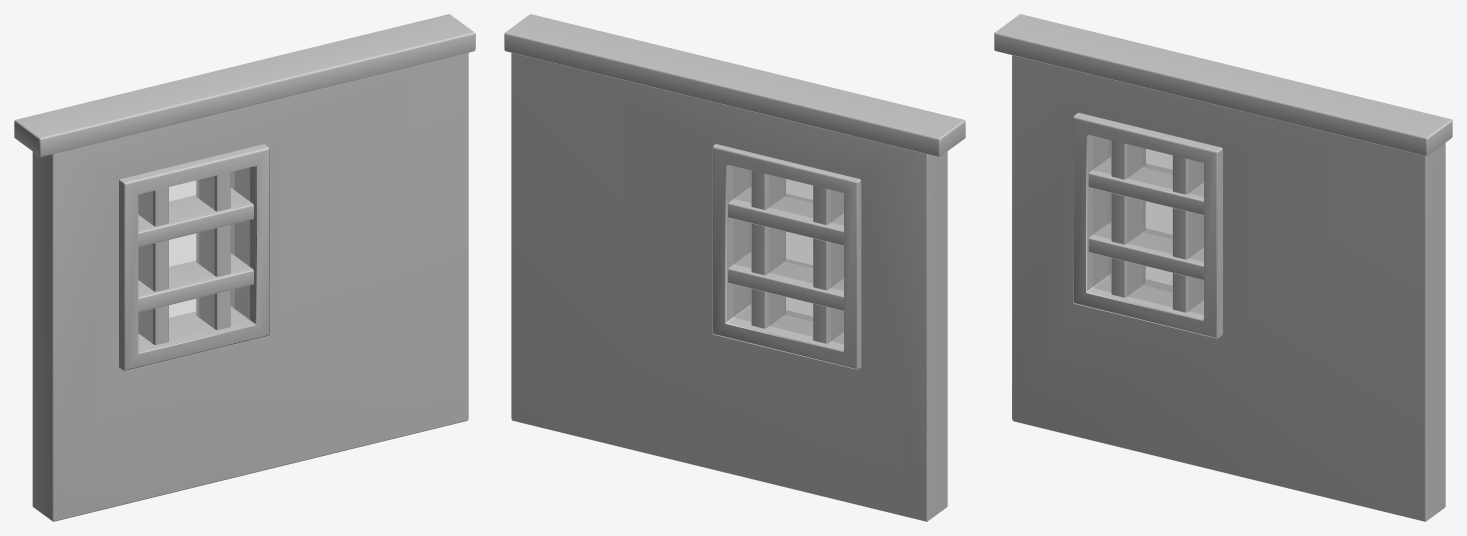
The model's file is Wall_39.fbx.
The picture shows the model from 3 angles, left to right: view 1: azimuth 30°, elevation 25°; view 2: azimuth 150°, elevation 25°; view 3: azimuth 330°, elevation 25°; orthographic projection.
Visible parts, largest first — view 1: Wall_39; view 2: Wall_39; view 3: Wall_39.
Boxes of the visible parts, bbox=[...] form: Wall_39: bbox=[14, 14, 475, 521]; Wall_39: bbox=[504, 14, 965, 521]; Wall_39: bbox=[994, 14, 1452, 521].
Size of the model in its own units: 480 by 410 by 55.95.
